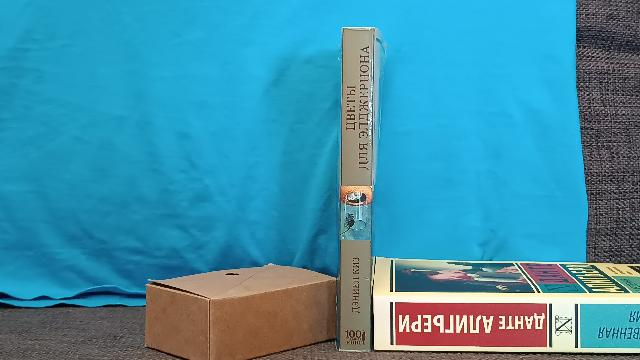book-s-spine: (373, 297, 640, 354), (341, 27, 375, 352)
